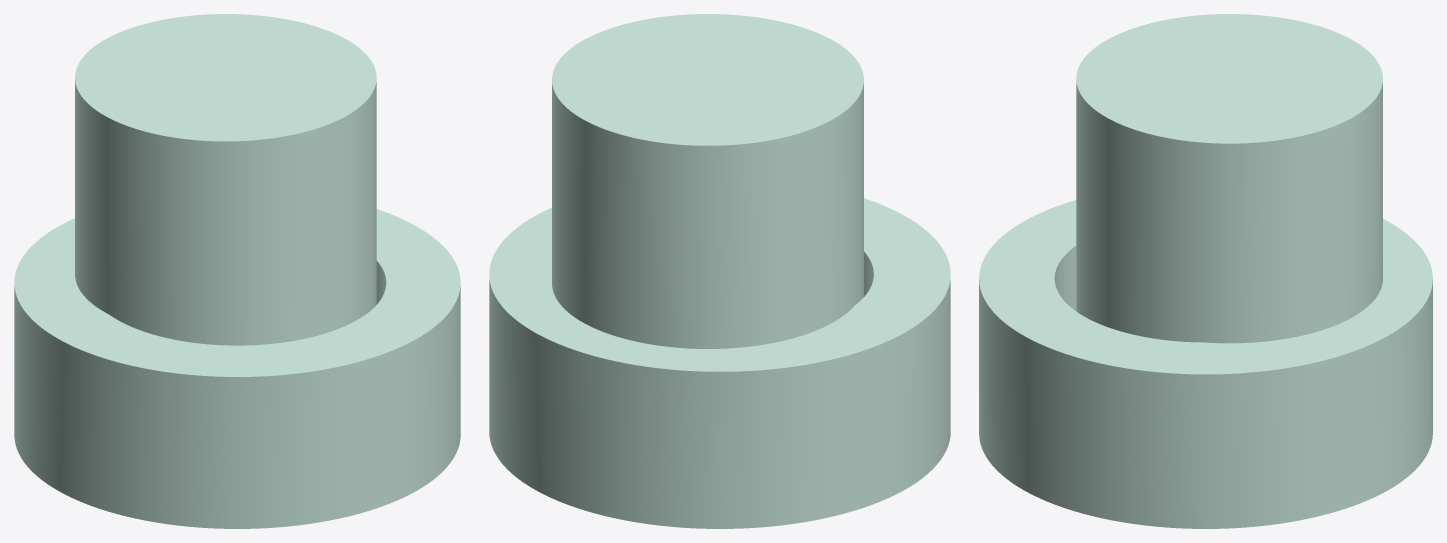
3 views of the same model, side by side, from view 1: azimuth 30°, elevation 25°; view 2: azimuth 150°, elevation 25°; view 3: azimuth 270°, elevation 25° (orthographic). The views are drawn at different scales.
Parts seen in each view (by area): view 1: Renderer Node; view 2: Renderer Node; view 3: Renderer Node.
Part boxes in pixels (x1,y1,x2,y2): Renderer Node: (14,14,460,528); Renderer Node: (489,14,950,528); Renderer Node: (979,14,1432,528).
Size of the model in its own units: 0.8524 by 0.7344 by 0.8526.
